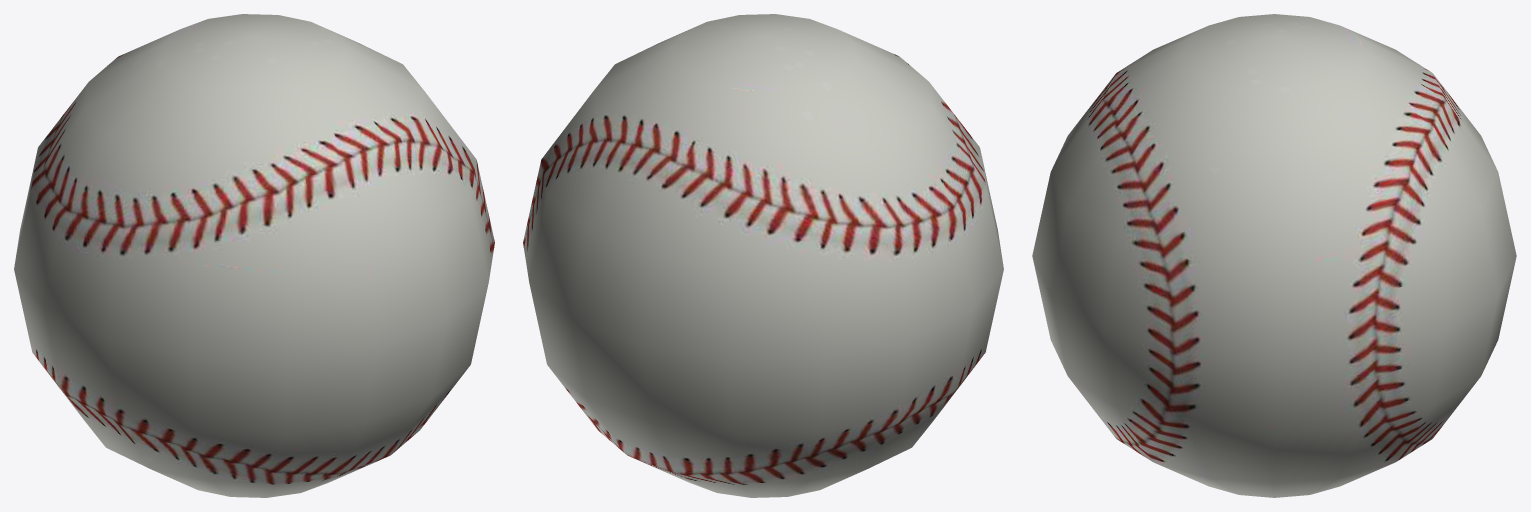
The model's file is ball_ed1e811f_visual.obj.
The picture shows the model from 3 angles, left to right: view 1: azimuth 30°, elevation 25°; view 2: azimuth 150°, elevation 25°; view 3: azimuth 270°, elevation 25°; orthographic projection.
Bounding box in the file's own units: 0.07 × 0.07 × 0.07.
1 material, 1 textured.
